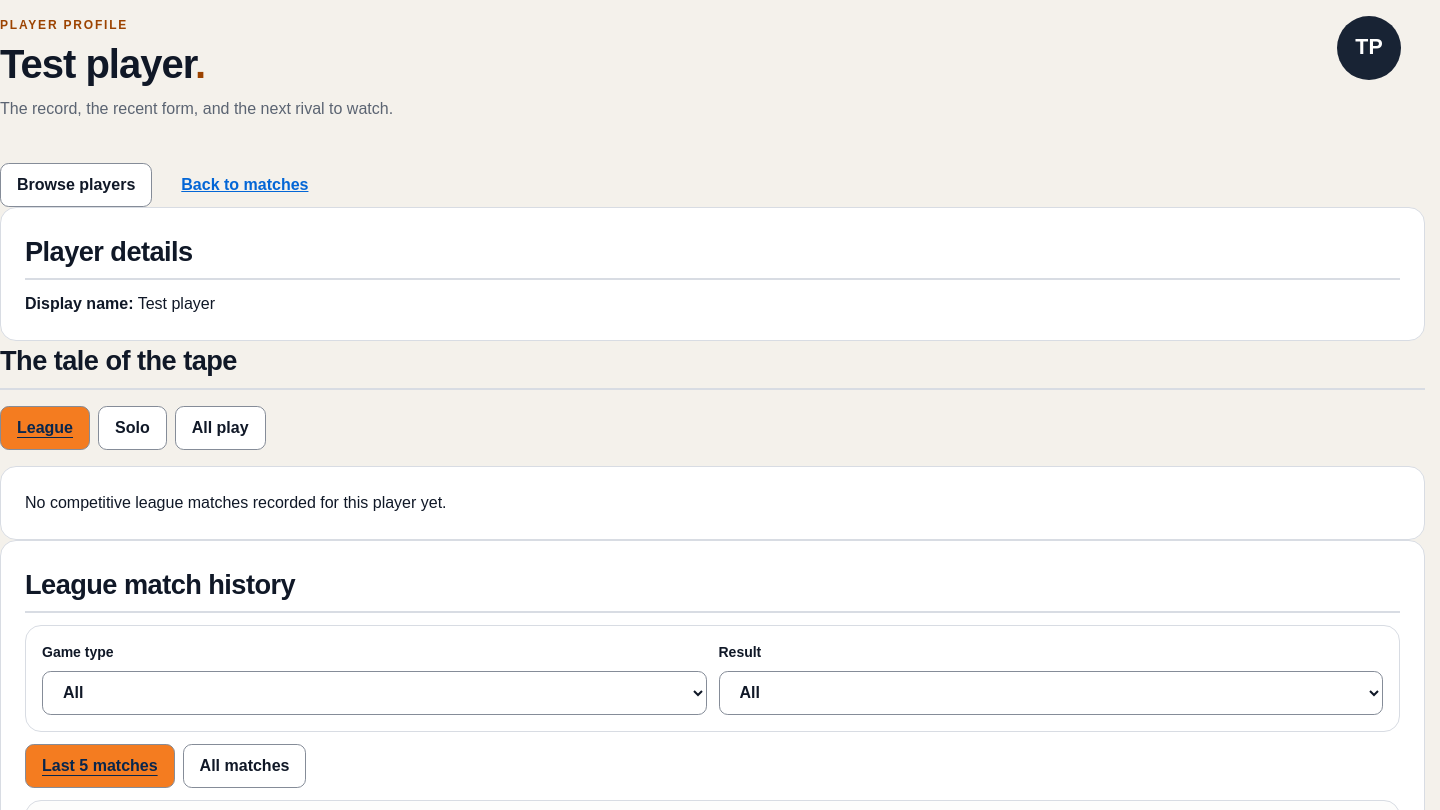
settles empty results and recovers from a history error on retry
The width and height of the screenshot is (1440, 810).
Expected: the heading "Test player." is shown, [0,42,205,86]
Click the button "All matches".
click(244, 766)  # box [183,744,306,788]
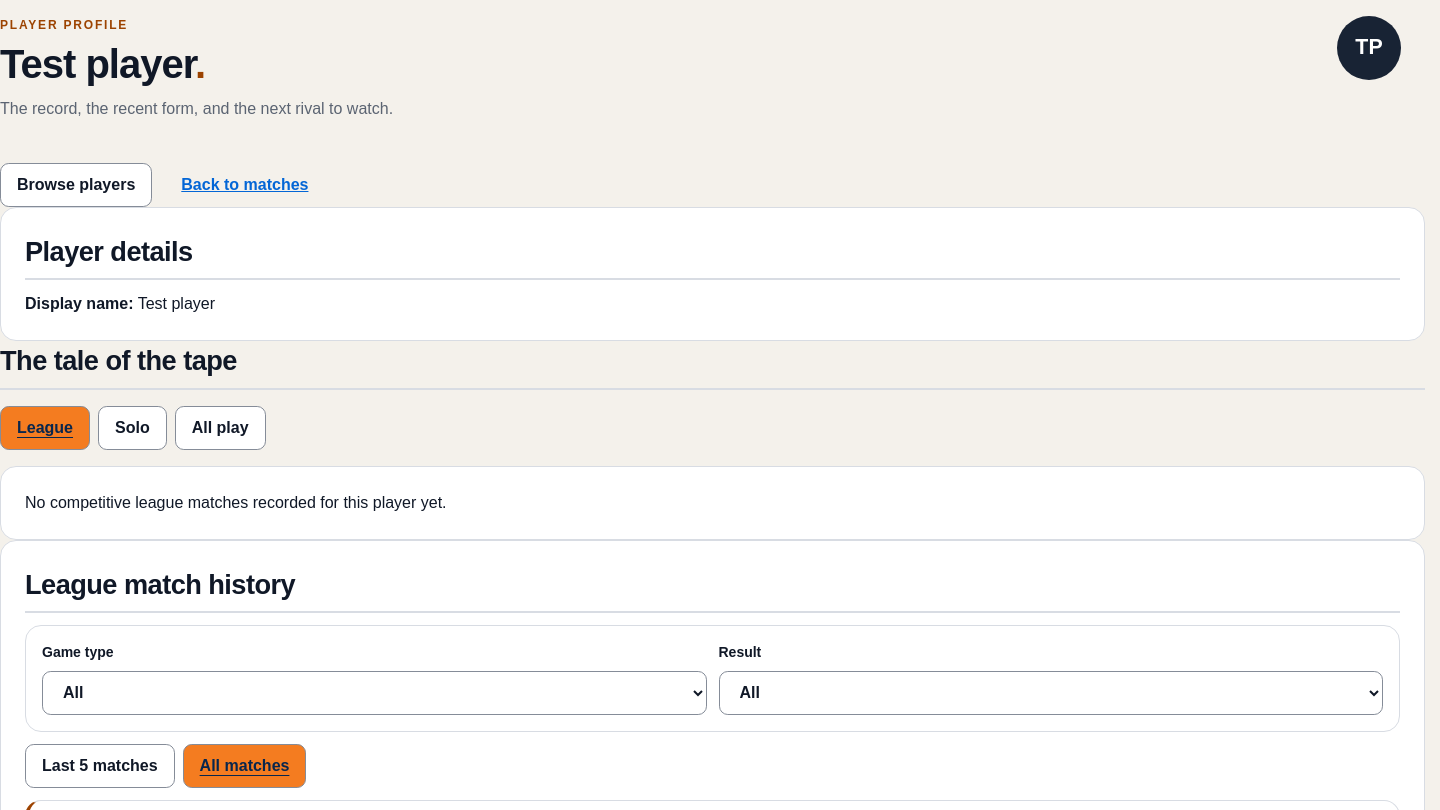
Click the button "Last 5 matches".
click(100, 766)  # box [25,744,175,788]
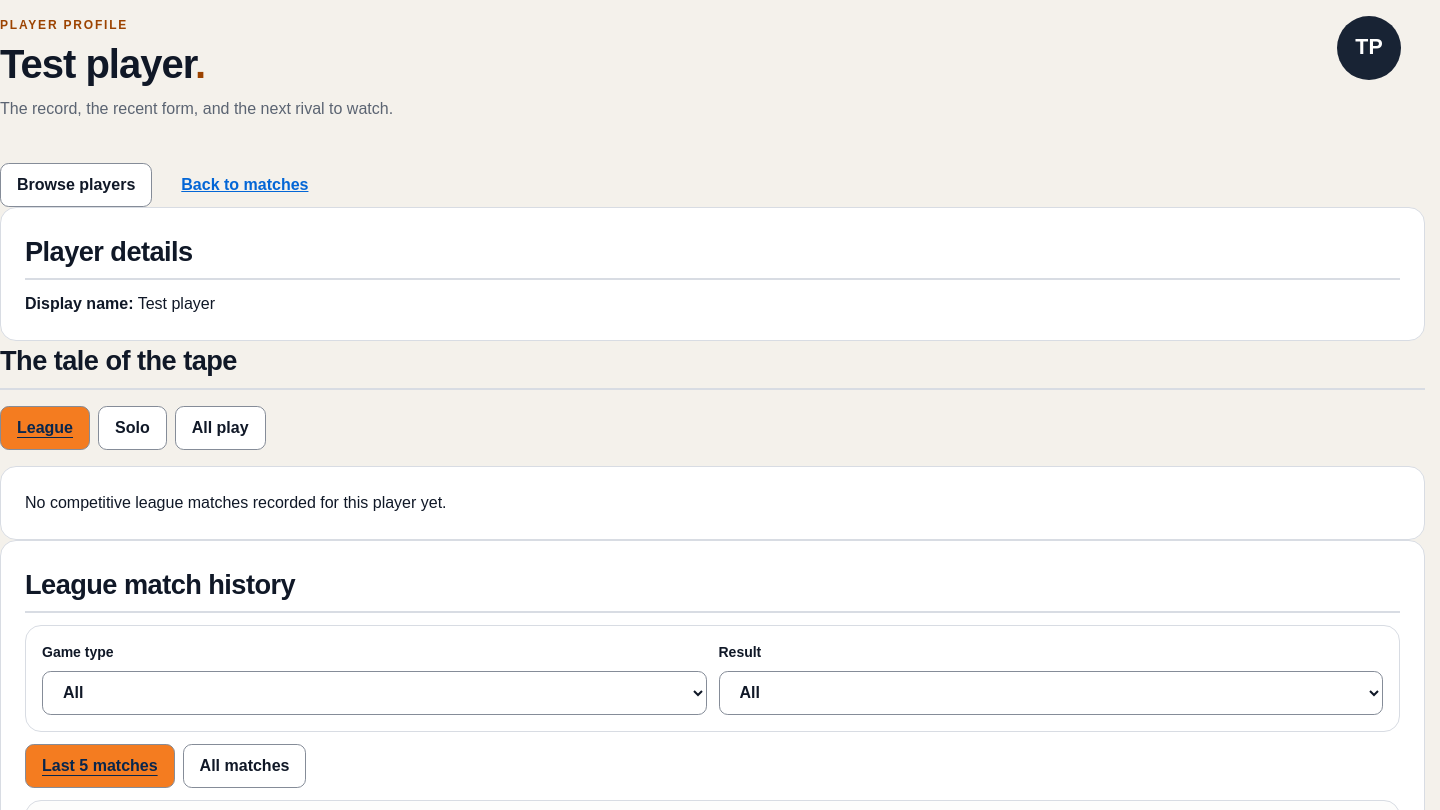
Click the button "All matches".
click(244, 766)  # box [183,744,306,788]
(page scrolled)
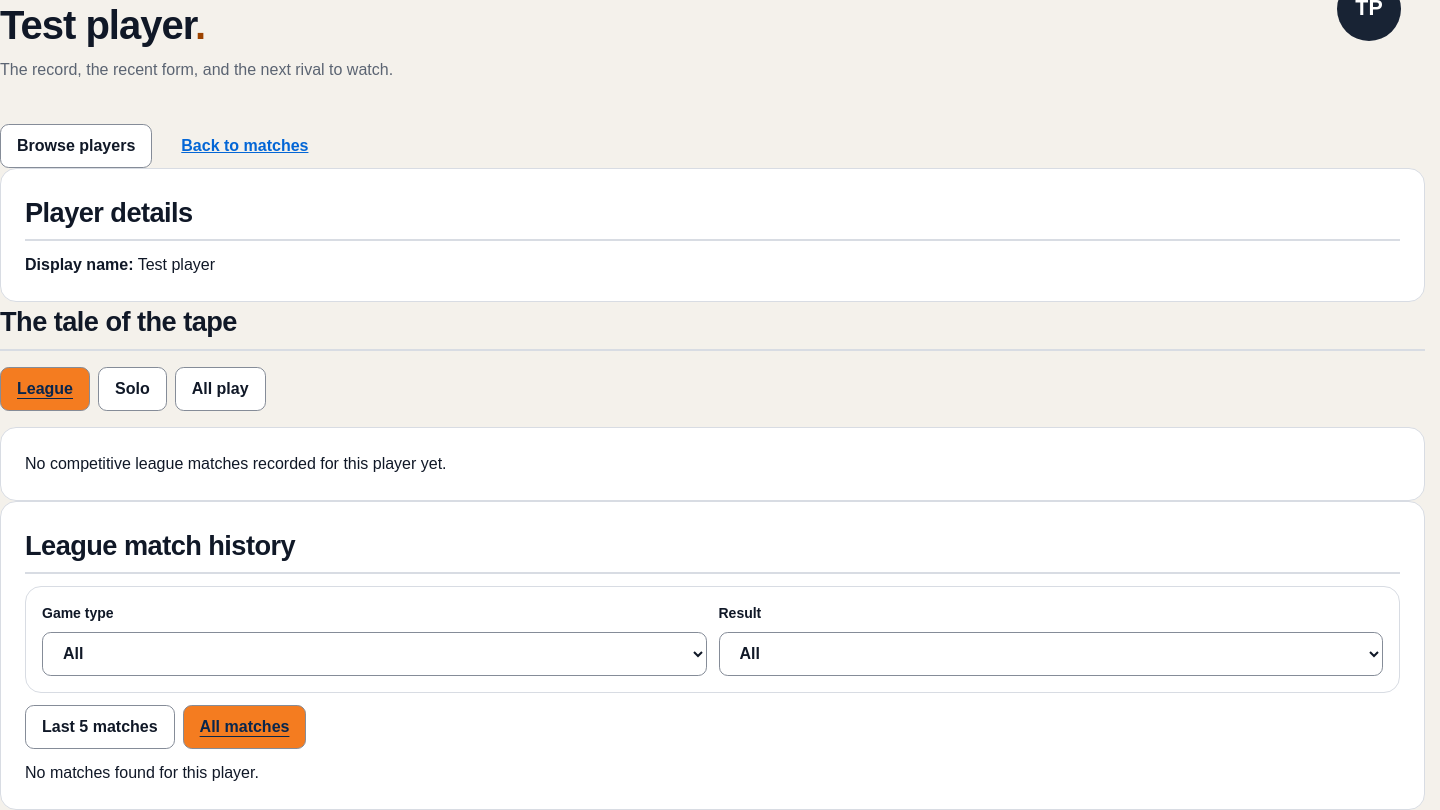
Result: the text "No matches found for this player." is shown at [25,764,259,781]
